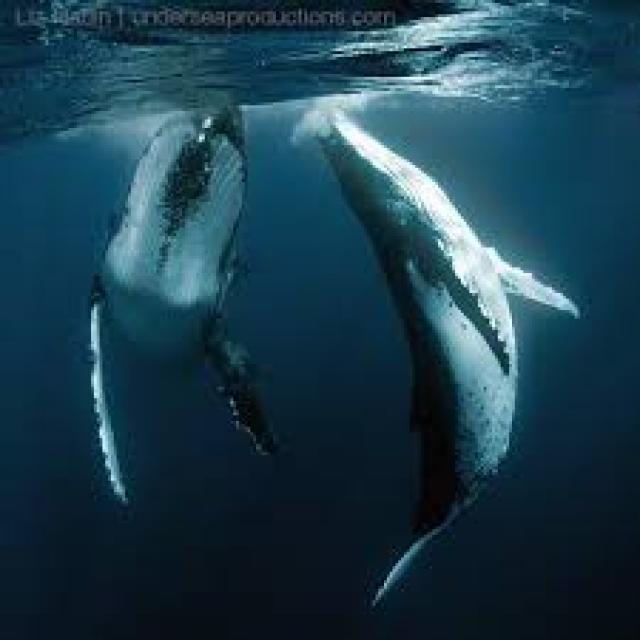blue_whale: (304, 77, 594, 640), (28, 51, 276, 583)
